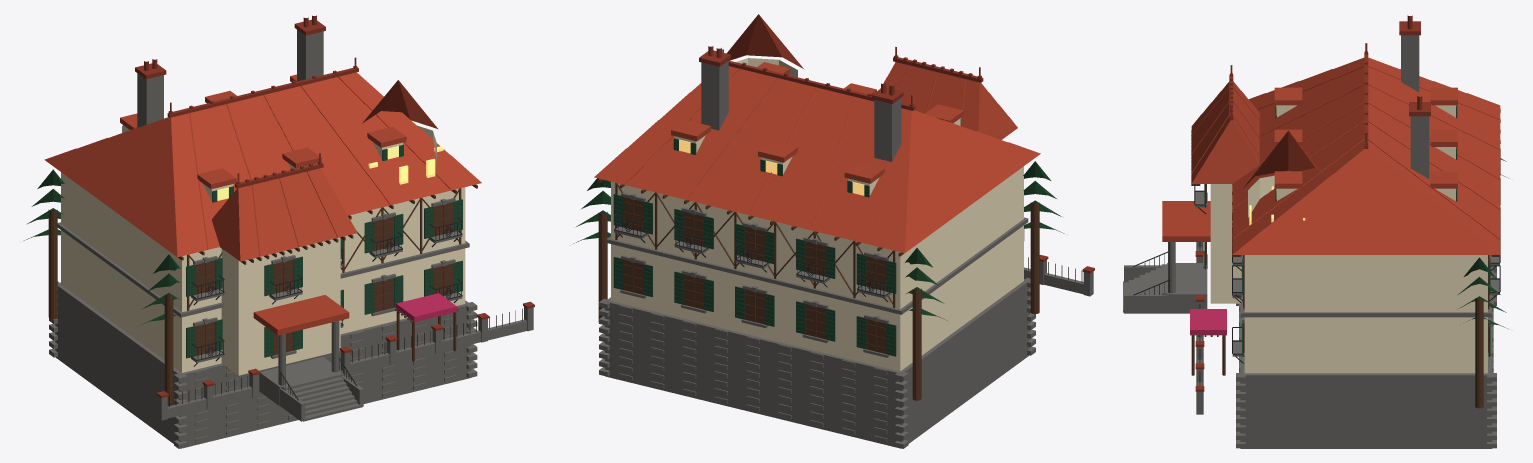
Rendered from fv_ch_04_huynh_thuc_khang_rose_street_villa.glb.
3 renders of one model, left to right at view 1: azimuth 30°, elevation 25°; view 2: azimuth 150°, elevation 25°; view 3: azimuth 270°, elevation 25°, orthographic. The views are drawn at different scales.
Visible parts, largest first — view 1: marseille_corrugated_roof_tiles, granite_foundation_and_stairs, stucco_facade_and_dormers, colombage_timber_and_eaves, pine_green_louvered_shutters, ridge_cresting_and_chimneys, wrought_iron_balconies_3d, pine_trees_and_garden_hedges, bougainvillea_pergola_clusters, warm_night_windows_ffb86c; view 2: marseille_corrugated_roof_tiles, granite_foundation_and_stairs, stucco_facade_and_dormers, colombage_timber_and_eaves, pine_green_louvered_shutters, ridge_cresting_and_chimneys, pine_trees_and_garden_hedges, wrought_iron_balconies_3d; view 3: marseille_corrugated_roof_tiles, stucco_facade_and_dormers, granite_foundation_and_stairs, colombage_timber_and_eaves, ridge_cresting_and_chimneys, bougainvillea_pergola_clusters, wrought_iron_balconies_3d, pine_trees_and_garden_hedges, pine_green_louvered_shutters.
Boxes of the visible parts, left/top/right/bottom form: marseille_corrugated_roof_tiles: left=44, top=72, right=481, bottom=335; granite_foundation_and_stairs: left=49, top=30, right=533, bottom=448; stucco_facade_and_dormers: left=61, top=125, right=465, bottom=375; colombage_timber_and_eaves: left=48, top=184, right=477, bottom=403; pine_green_louvered_shutters: left=122, top=126, right=462, bottom=358; ridge_cresting_and_chimneys: left=135, top=15, right=534, bottom=397; wrought_iron_balconies_3d: left=169, top=217, right=522, bottom=407; pine_trees_and_garden_hedges: left=24, top=169, right=180, bottom=325; bougainvillea_pergola_clusters: left=396, top=293, right=457, bottom=322; warm_night_windows_ffb86c: left=217, top=146, right=443, bottom=200; marseille_corrugated_roof_tiles: left=594, top=14, right=1040, bottom=253; granite_foundation_and_stairs: left=599, top=60, right=1093, bottom=448; stucco_facade_and_dormers: left=611, top=58, right=1023, bottom=371; colombage_timber_and_eaves: left=598, top=179, right=1039, bottom=400; pine_green_louvered_shutters: left=613, top=119, right=961, bottom=356; ridge_cresting_and_chimneys: left=699, top=46, right=1094, bottom=273; pine_trees_and_garden_hedges: left=573, top=161, right=1064, bottom=320; wrought_iron_balconies_3d: left=614, top=212, right=1082, bottom=301; marseille_corrugated_roof_tiles: left=1162, top=57, right=1500, bottom=254; stucco_facade_and_dormers: left=1210, top=105, right=1487, bottom=373; granite_foundation_and_stairs: left=1123, top=35, right=1499, bottom=448; colombage_timber_and_eaves: left=1191, top=109, right=1500, bottom=408; ridge_cresting_and_chimneys: left=1195, top=15, right=1430, bottom=391; bougainvillea_pergola_clusters: left=1190, top=309, right=1226, bottom=335; wrought_iron_balconies_3d: left=1133, top=154, right=1500, bottom=385; pine_trees_and_garden_hedges: left=1458, top=143, right=1508, bottom=328; pine_green_louvered_shutters: left=1204, top=105, right=1490, bottom=356.
Size of the model in its own units: 25.43 by 20.33 by 23.08.
